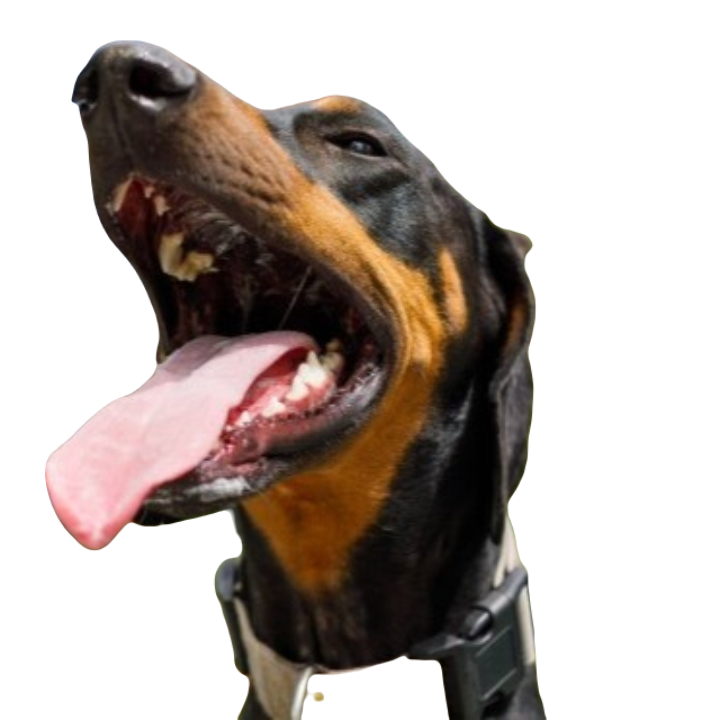Dog: (41, 35, 546, 719)
